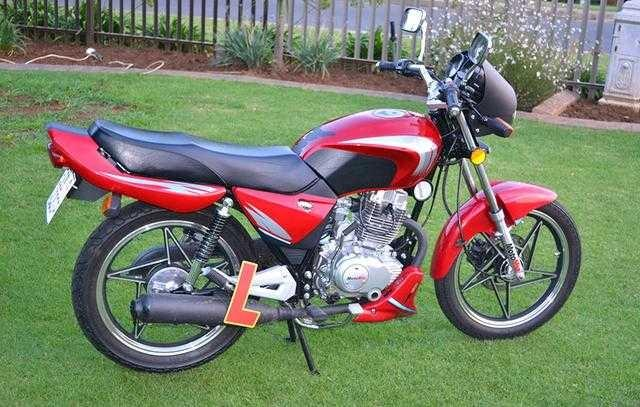motorbike: (39, 60, 588, 375)
